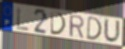2: (32, 8, 50, 36)
D: (50, 11, 68, 37), (86, 15, 103, 41)
L: (16, 7, 30, 32)
R: (68, 14, 85, 40)
U: (103, 17, 122, 45)
